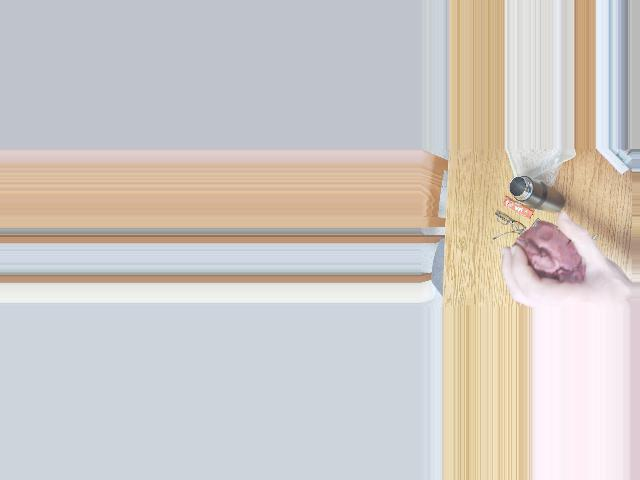onion: (522, 235, 586, 281)
